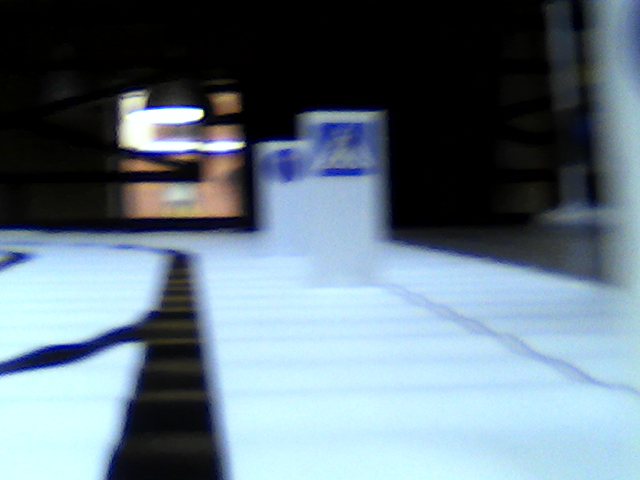pesh: (321, 120, 376, 179)
